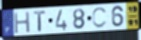4: (55, 8, 68, 32)
6: (111, 5, 125, 29)
8: (72, 9, 87, 31)
C: (92, 7, 109, 30)
H: (13, 10, 31, 35)
T: (33, 11, 47, 33)
